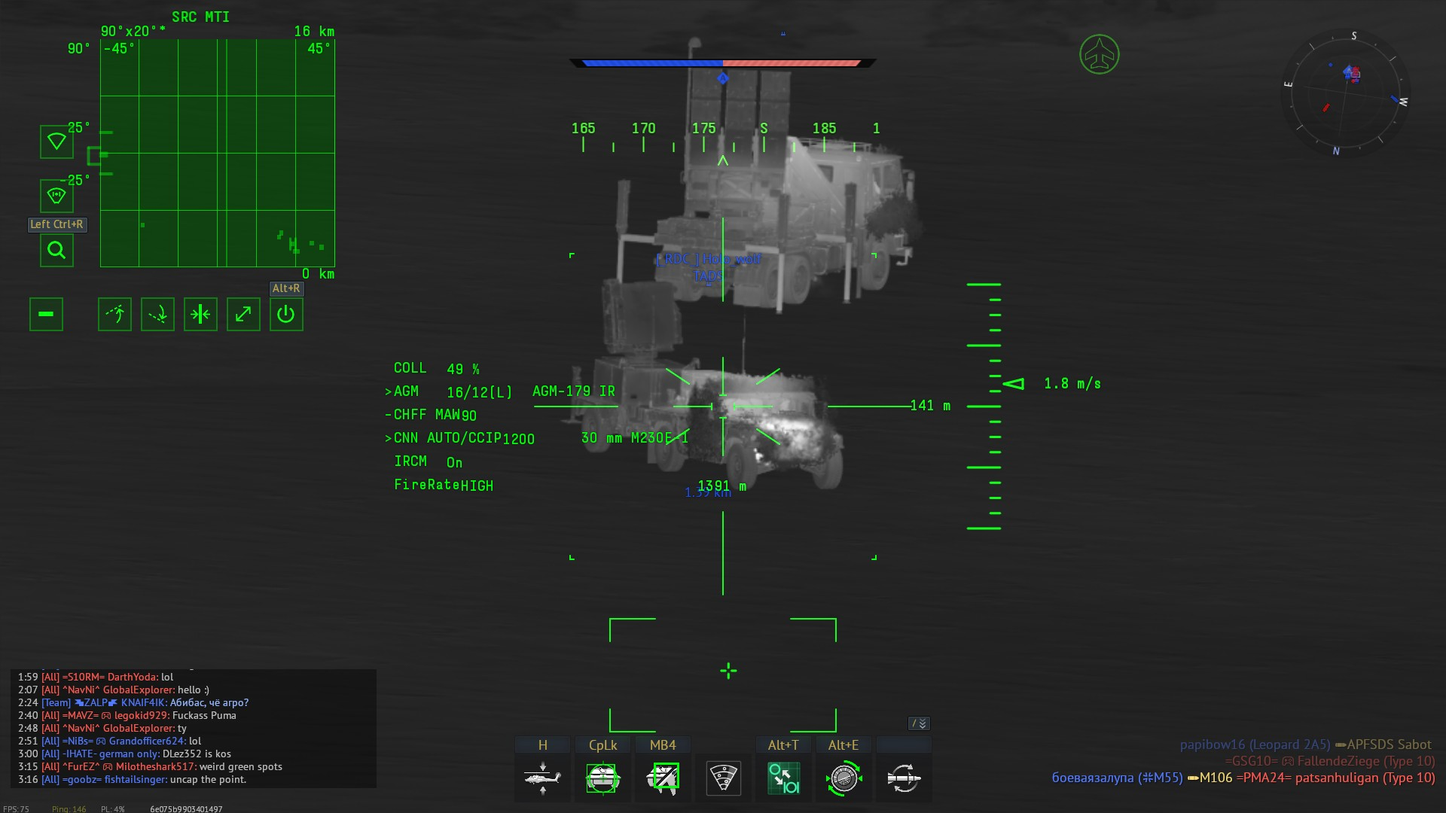spaa_TEL: (592, 57, 926, 316)
spaa_tads: (563, 280, 849, 493)
